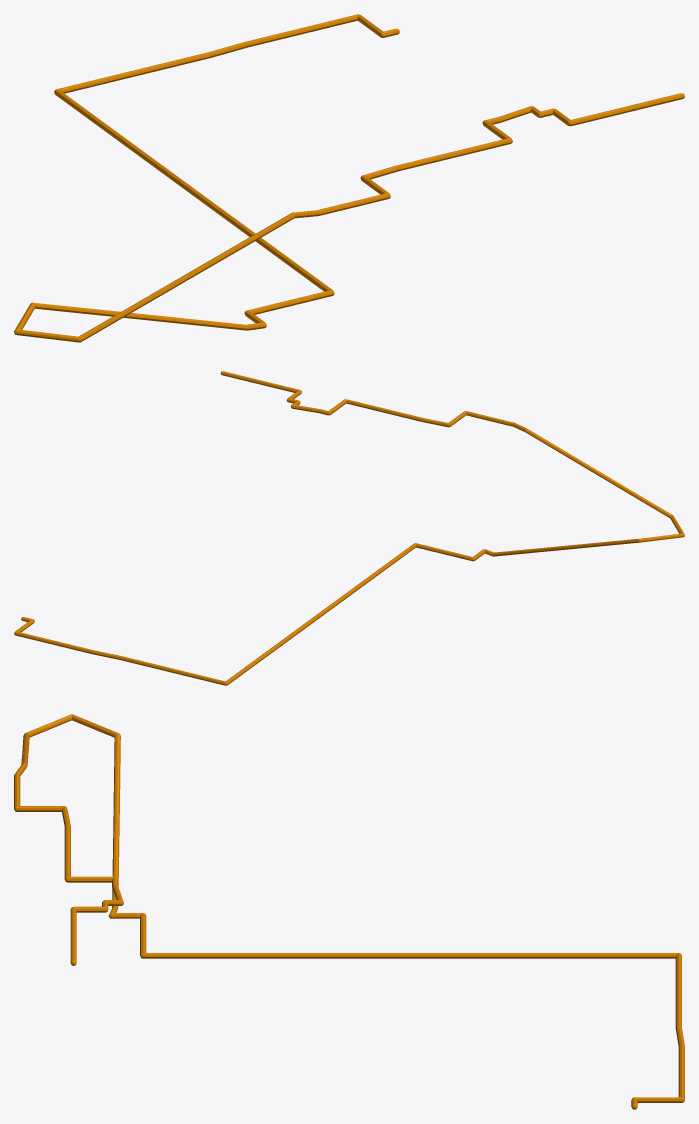
3 views of the same model, one above another, from view 1: azimuth 30°, elevation 25°; view 2: azimuth 150°, elevation 25°; view 3: azimuth 270°, elevation 25° (orthographic). The views are drawn at different scales.
Bounding box in the file's own units: 2409 × 520 × 2129.
